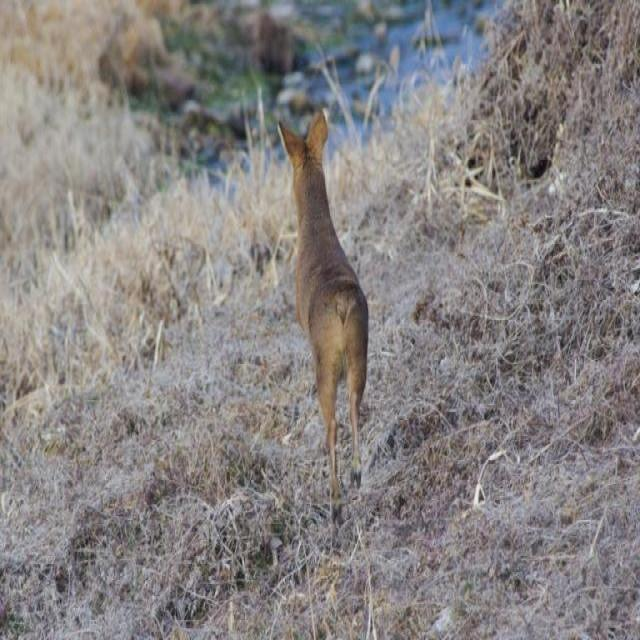deer: (267, 108, 401, 531)
